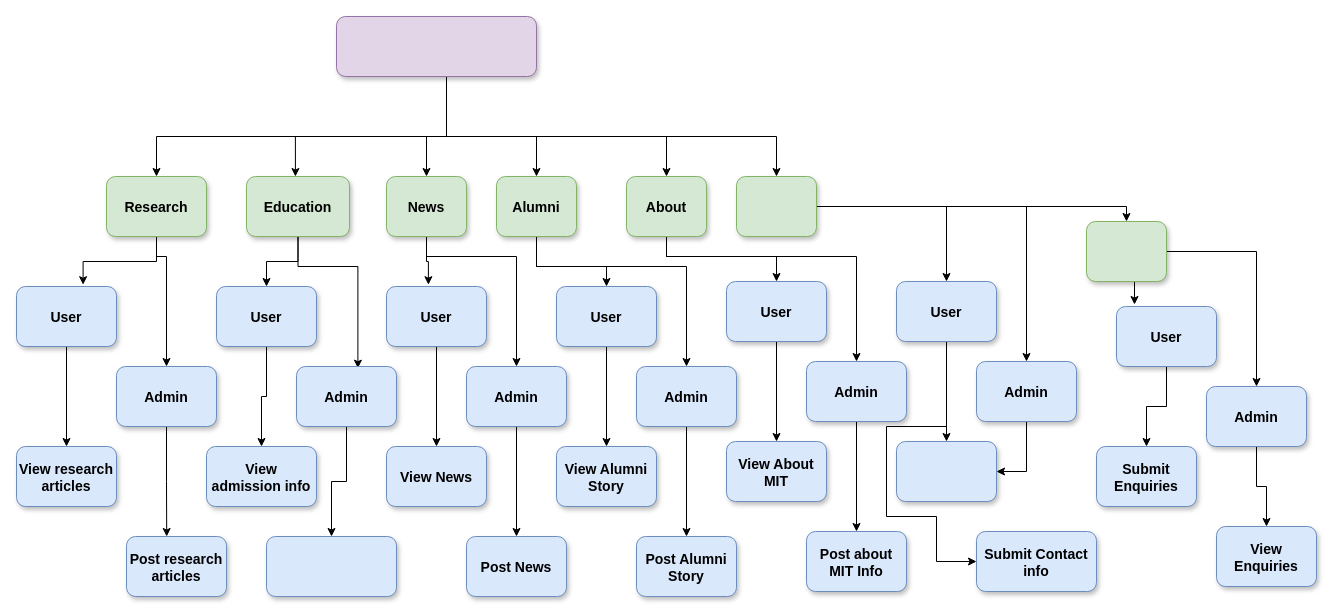
The diagram is 1333 pixels wide and 613 high, and some of its shapes have lost their labels. The shapes that lost their labels are listed below. From the top down, each one's centre as x and y in pixels, then its label:
At (x=437, y=48): "Home".
At (x=777, y=208): "Contact".
At (x=1127, y=252): "Enquiries".
At (x=947, y=472): "View Contact Info".
At (x=332, y=568): "Post Admission Info".
